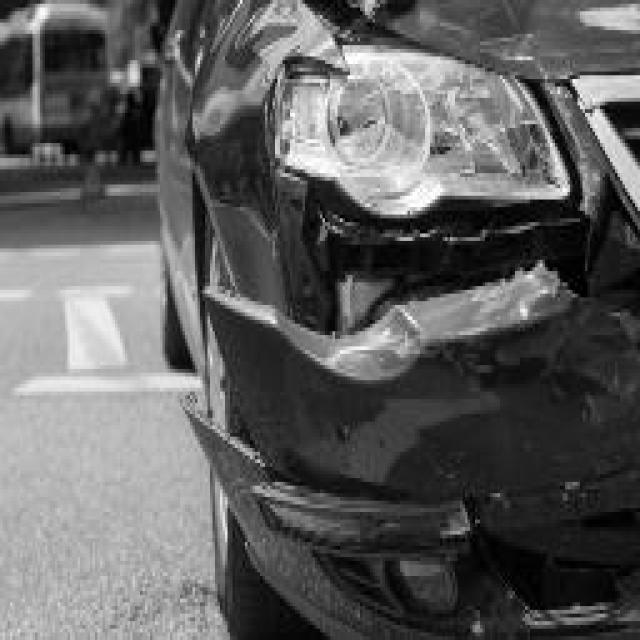Bonnet: (306, 0, 640, 80)
Bumper: (180, 230, 638, 640)
Fender: (171, 0, 349, 269)
Light: (261, 41, 581, 238)
